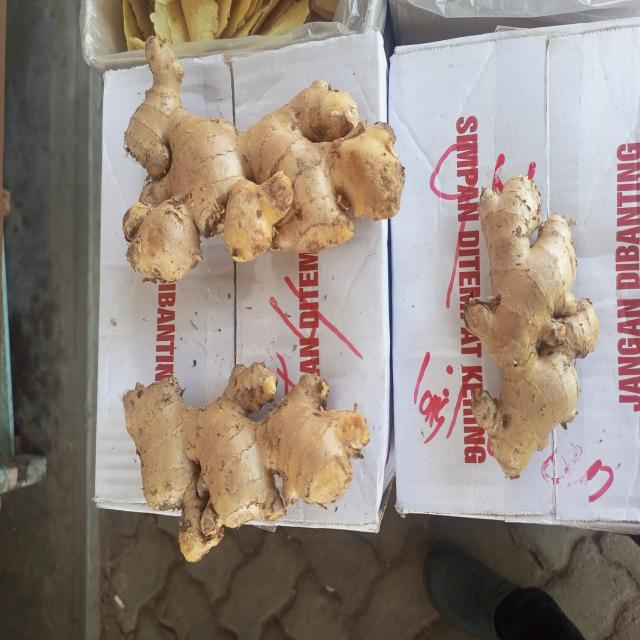ginger: (128, 49, 402, 274), (120, 369, 360, 544), (470, 182, 596, 469)
